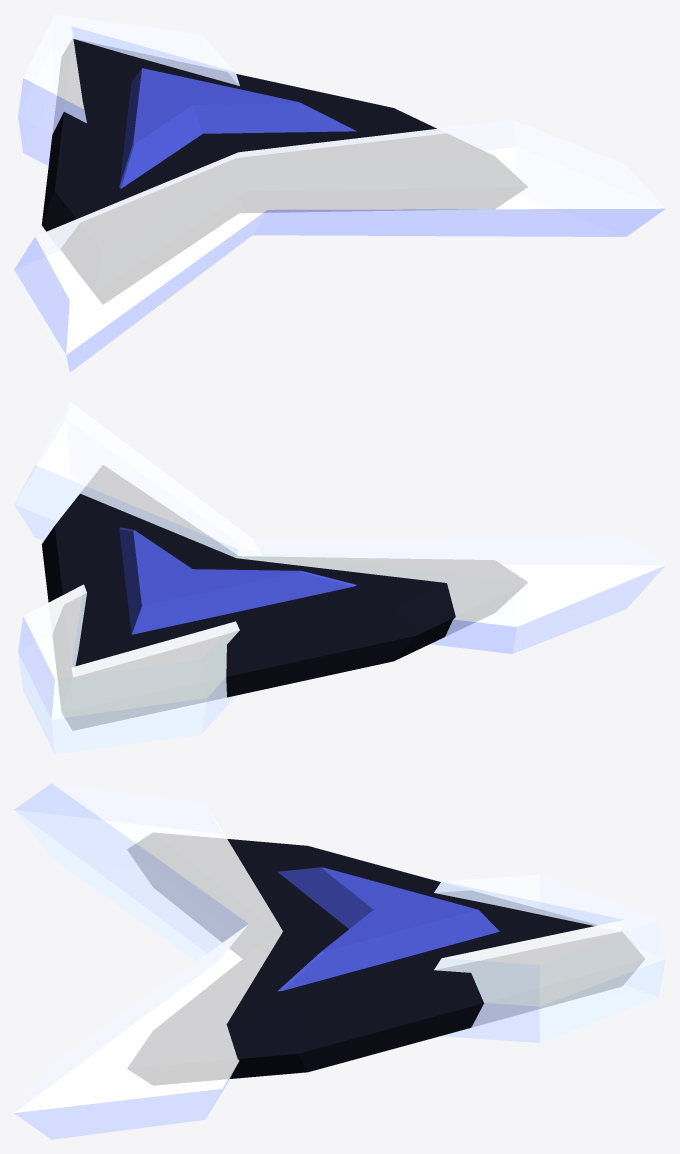
Rendered from blue.fbx.
3 renders of one model, top to bottom at view 1: azimuth 30°, elevation 25°; view 2: azimuth 150°, elevation 25°; view 3: azimuth 270°, elevation 25°, orthographic. The views are drawn at different scales.
Visible parts, largest first — view 1: Cube.001, Cube, Cube.002; view 2: Cube, Cube.001, Cube.002; view 3: Cube, Cube.001, Cube.002.
Boxes of the visible parts, box(x1,y1,x2,y2) form: Cube.001: box(14, 120, 665, 372); Cube: box(41, 39, 527, 303); Cube.002: box(18, 14, 239, 165); Cube: box(41, 465, 527, 730); Cube.001: box(14, 401, 665, 653); Cube.002: box(18, 584, 239, 754); Cube: box(127, 833, 644, 1084); Cube.001: box(14, 783, 282, 1139); Cube.002: box(434, 874, 665, 1042).
Bounding box in the file's own units: 306 × 42 × 278.
